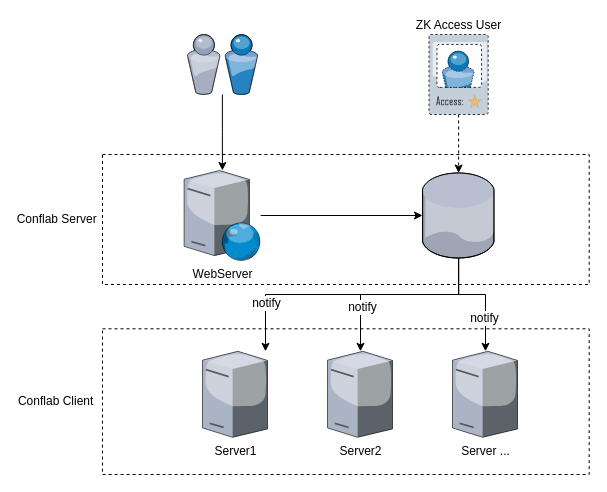
Image size: 607x492. Some labels were removed from this diagram. The shapes that lost their labels are listed below. From the top down, each one's centre as x and y in pixels, then its label:
point (222, 64): Manager
point (458, 215): Zookeeper
